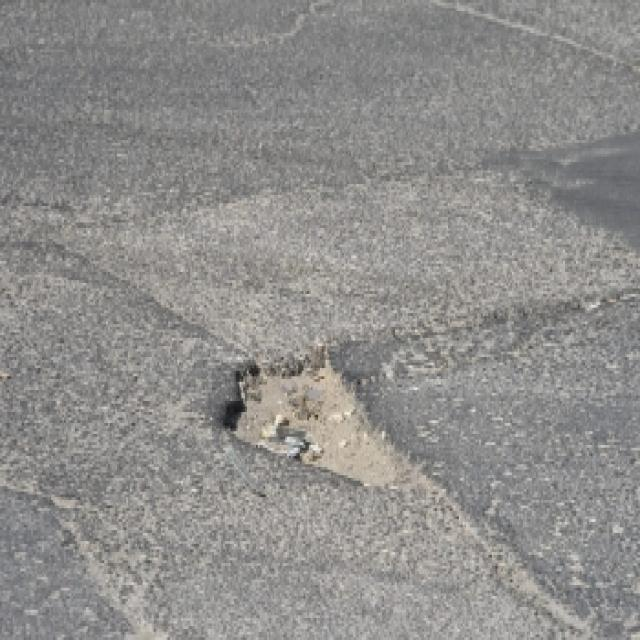p6: (0, 239, 574, 637), (223, 346, 421, 492)
